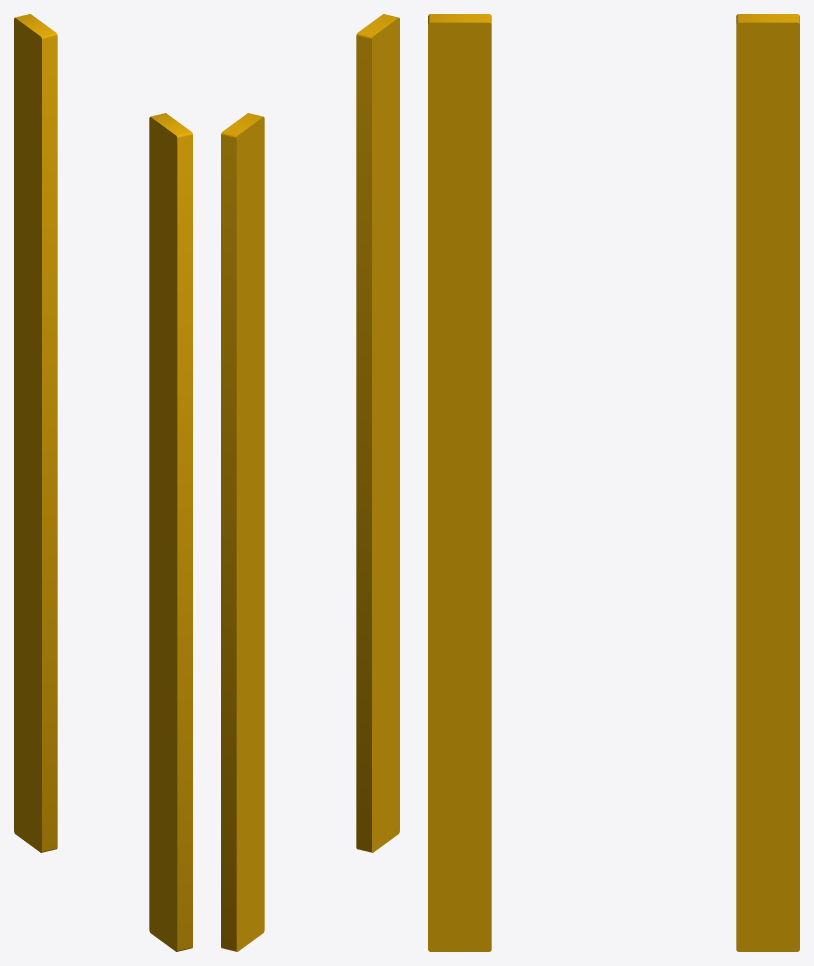
3 renders of one model, left to right at view 1: azimuth 30°, elevation 25°; view 2: azimuth 150°, elevation 25°; view 3: azimuth 270°, elevation 25°, orthographic. The views are drawn at different scales.
Visible parts, largest first — view 1: TransformZUpToYUp.001; view 2: TransformZUpToYUp.001; view 3: TransformZUpToYUp.001.
Boxes of the visible parts, x1=… form: TransformZUpToYUp.001: x1=14, y1=14, x2=192, y2=951; TransformZUpToYUp.001: x1=221, y1=14, x2=399, y2=951; TransformZUpToYUp.001: x1=428, y1=14, x2=799, y2=951.
Bounding box in the file's own units: 16 × 805 × 292.
